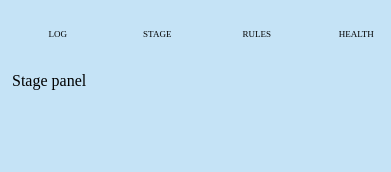
Test: PlayScreenPanels › shows tab controls and switches visible panel on mobile layout
The width and height of the screenshot is (391, 172).
expect the tab "LOG" is shown: met, box left=12, top=12, right=104, bottom=56
expect the text "Stage panel" is shown: met, box left=12, top=72, right=86, bottom=89
Click the tab "RULES".
click(257, 34)  # box left=211, top=12, right=302, bottom=56
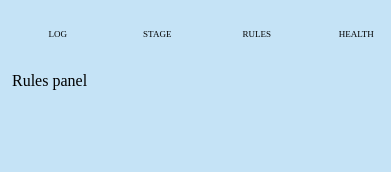
expect the text "Rules panel" is shown: met, box left=12, top=72, right=87, bottom=89
